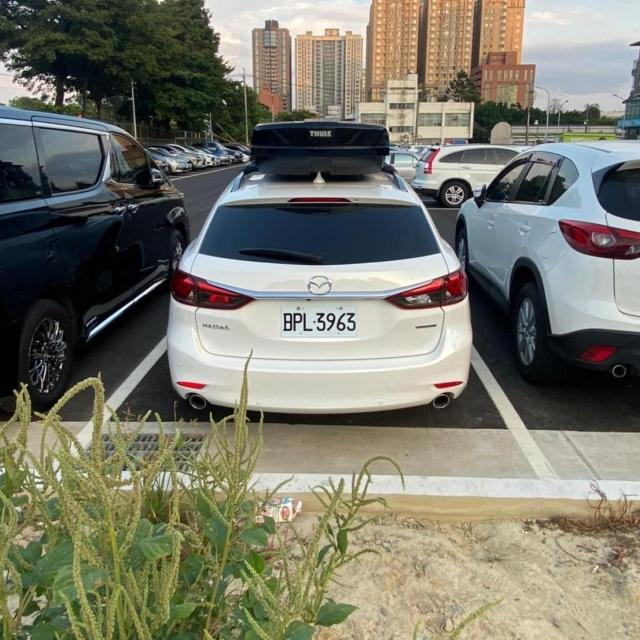W: (276, 297, 361, 341)
